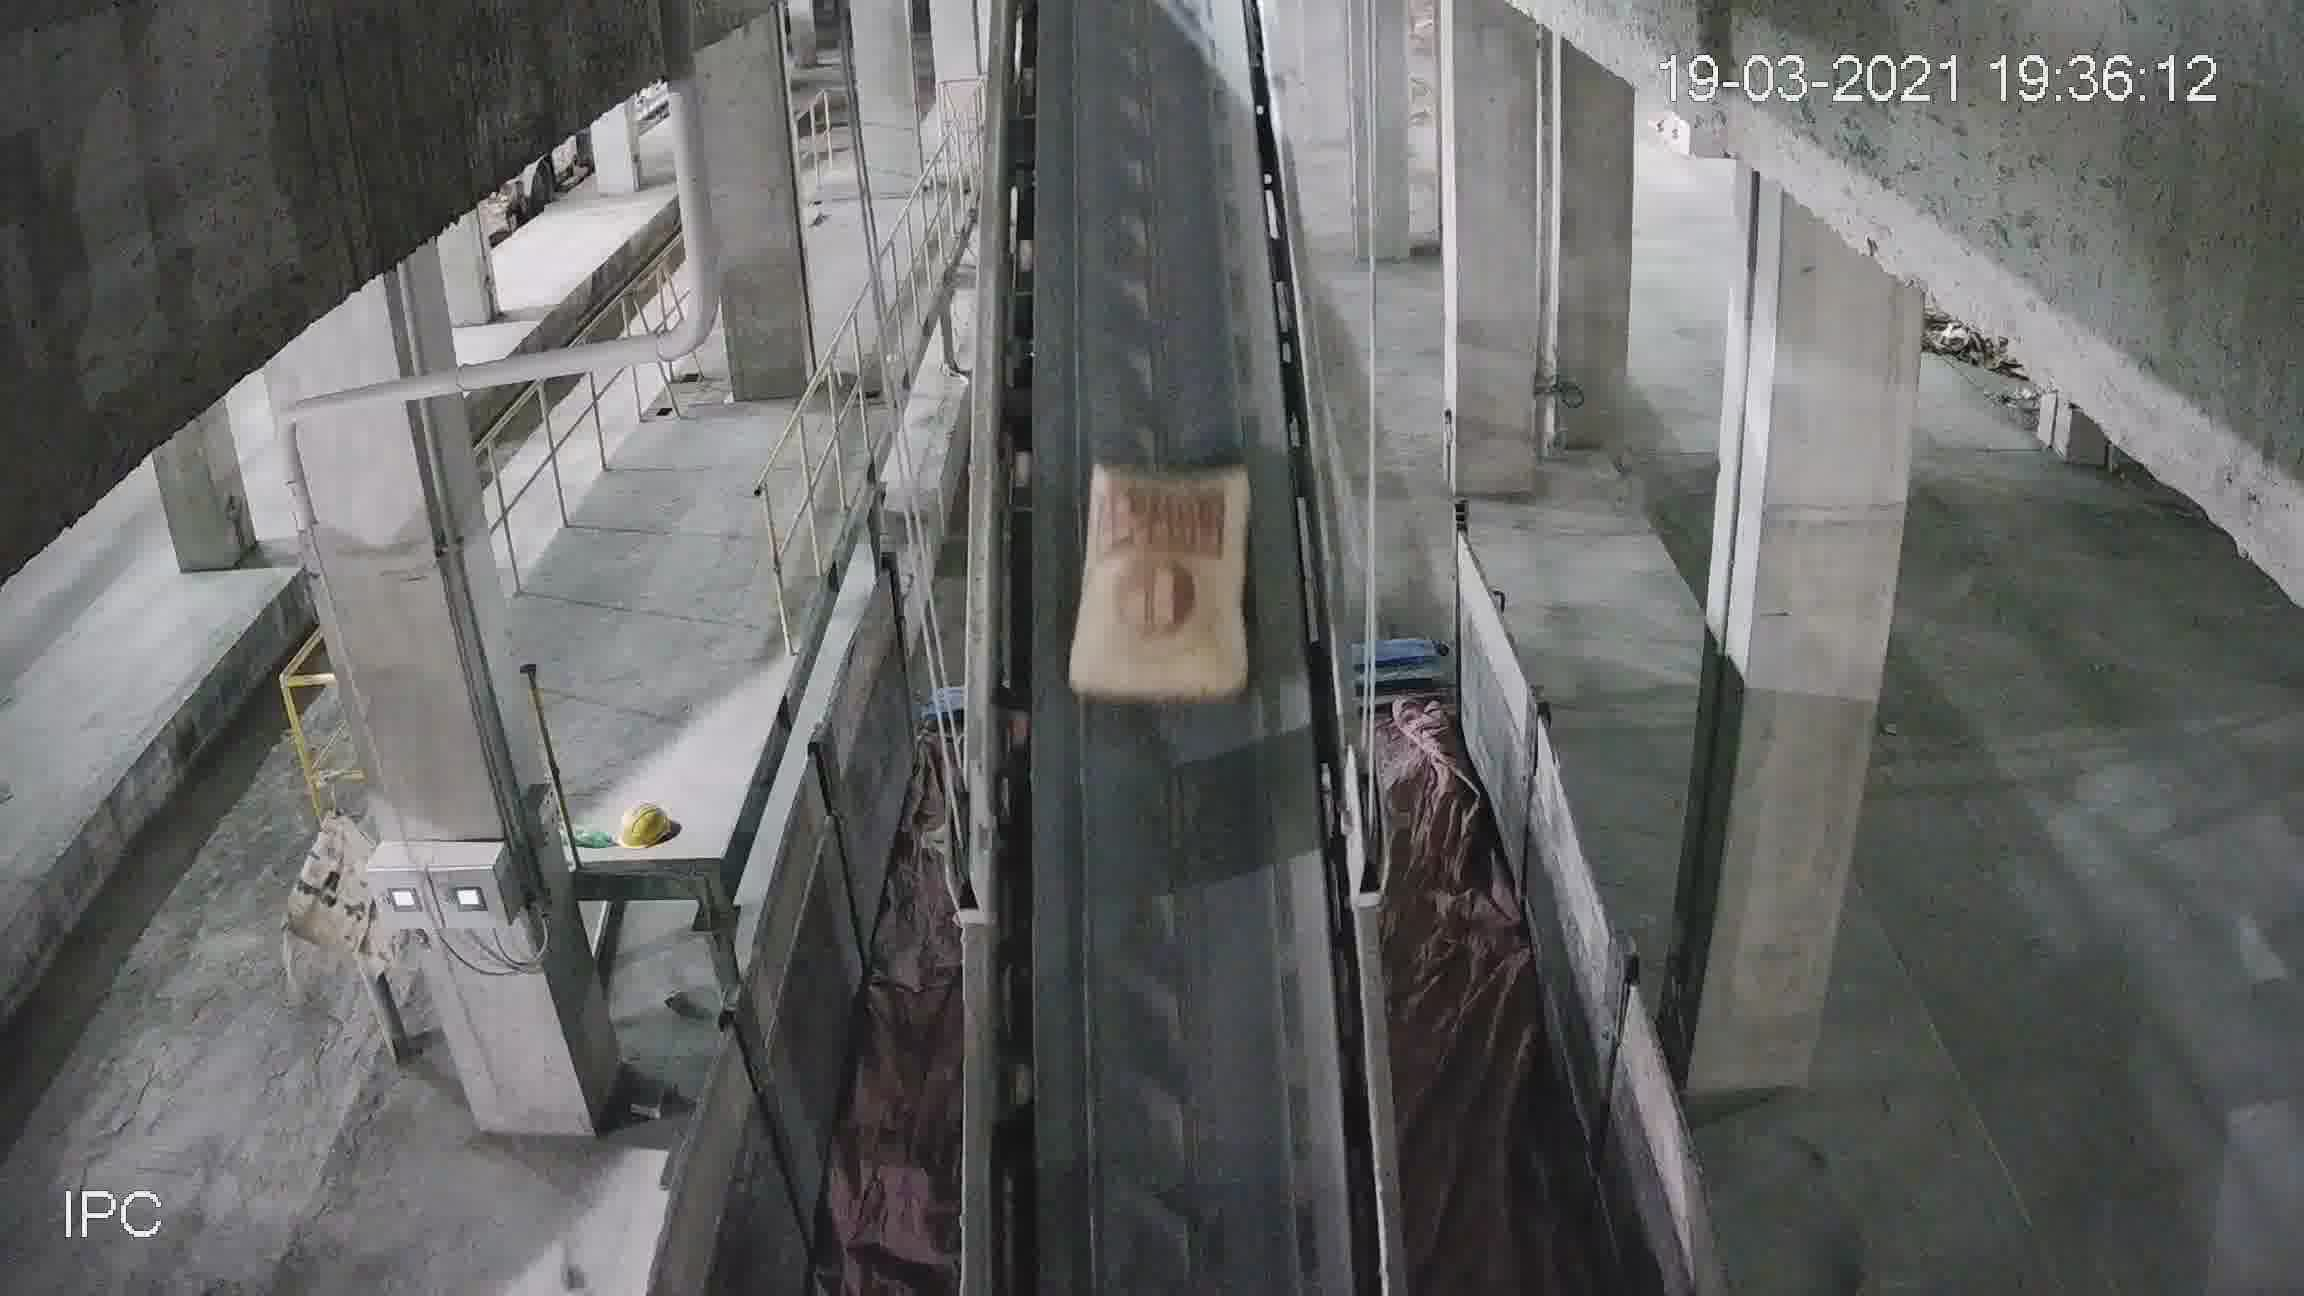bag: (1076, 459, 1252, 701)
belt: (946, 0, 1364, 1231)
